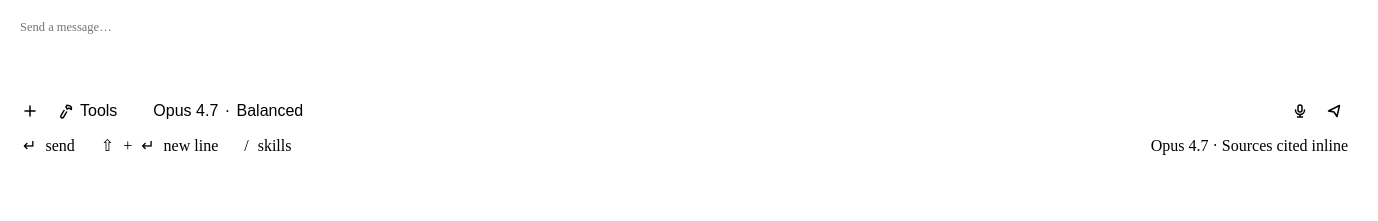
Composer › inserts the selected mention as @{slug} and closes the popover
This screenshot has width=1378, height=221.
Type "hello @t" into the text box with test id "composer-textarea". click: (687, 48)
box: [8, 8, 1366, 89]
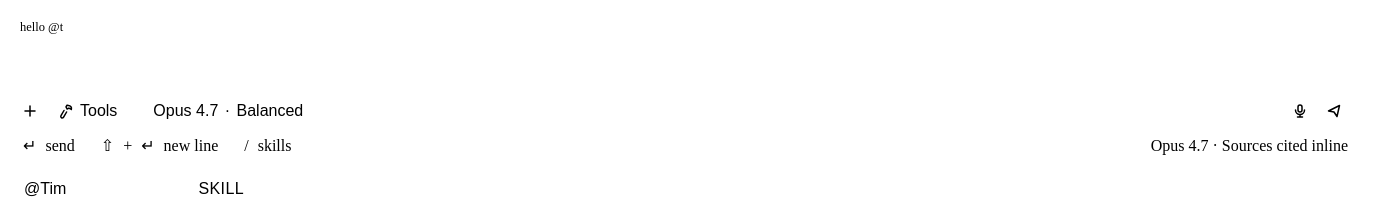
Click the option with test id "mention-row-tim". click: (134, 189)
box: [14, 174, 254, 204]
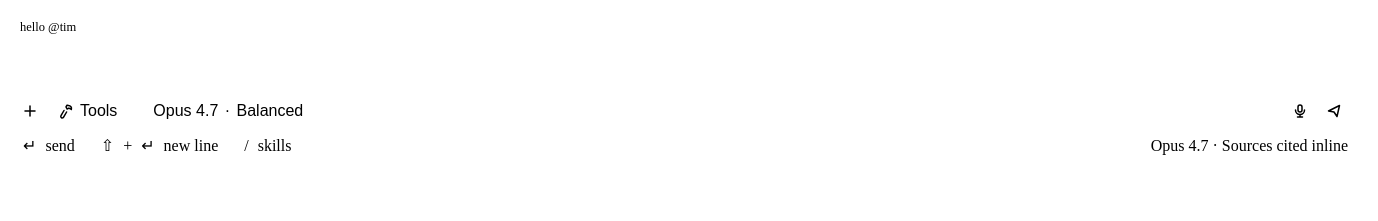
Expected: the list with test id "mention-popover" is gone
